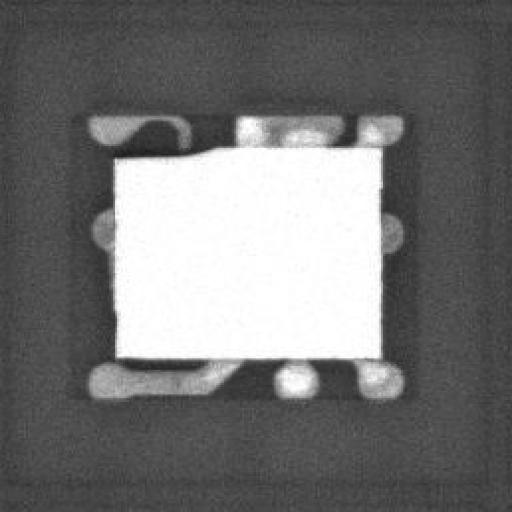DIE_BROKEN: (113, 142, 218, 156)
